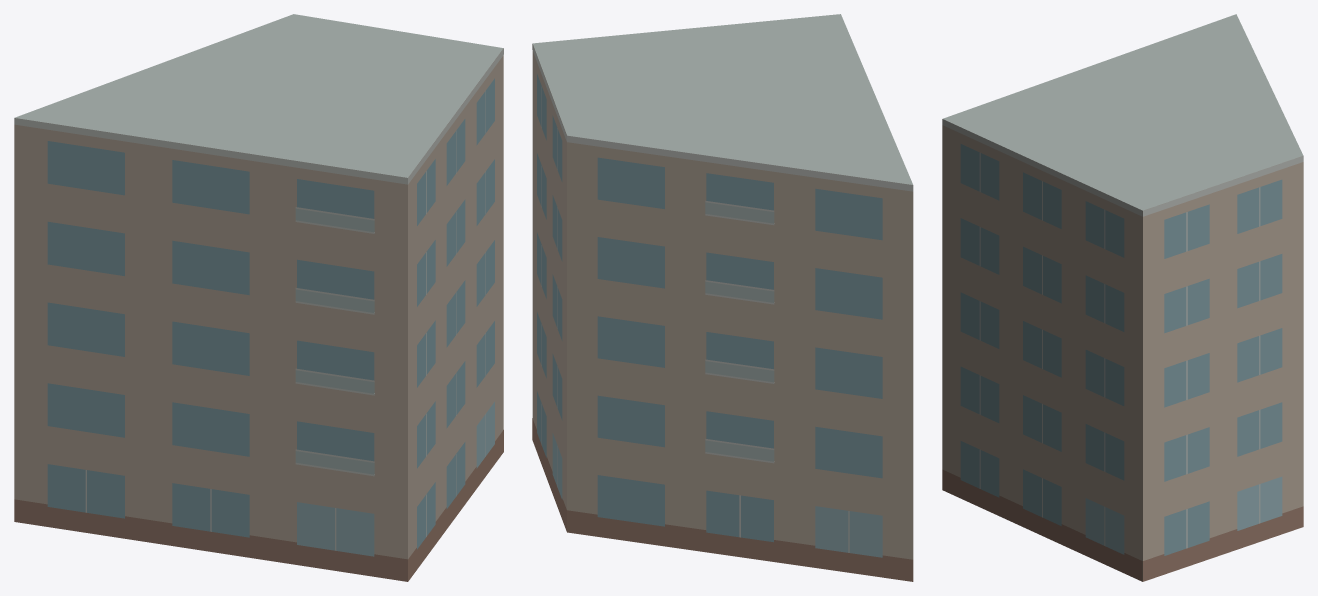
Rendered from survey-upis-32718090.glb.
3 views of the same model, side by side, from view 1: azimuth 30°, elevation 25°; view 2: azimuth 150°, elevation 25°; view 3: azimuth 270°, elevation 25° (orthographic). The views are drawn at different scales.
Parts seen in each view (by area): view 1: survey-upis-32718090.tmp; view 2: survey-upis-32718090.tmp; view 3: survey-upis-32718090.tmp.
Boxes of the visible parts, bbox=[...] form: survey-upis-32718090.tmp: bbox=[14, 14, 503, 581]; survey-upis-32718090.tmp: bbox=[532, 14, 913, 581]; survey-upis-32718090.tmp: bbox=[942, 14, 1303, 581].
Bounding box in the file's own units: 16.71 × 14.7 × 12.97.
